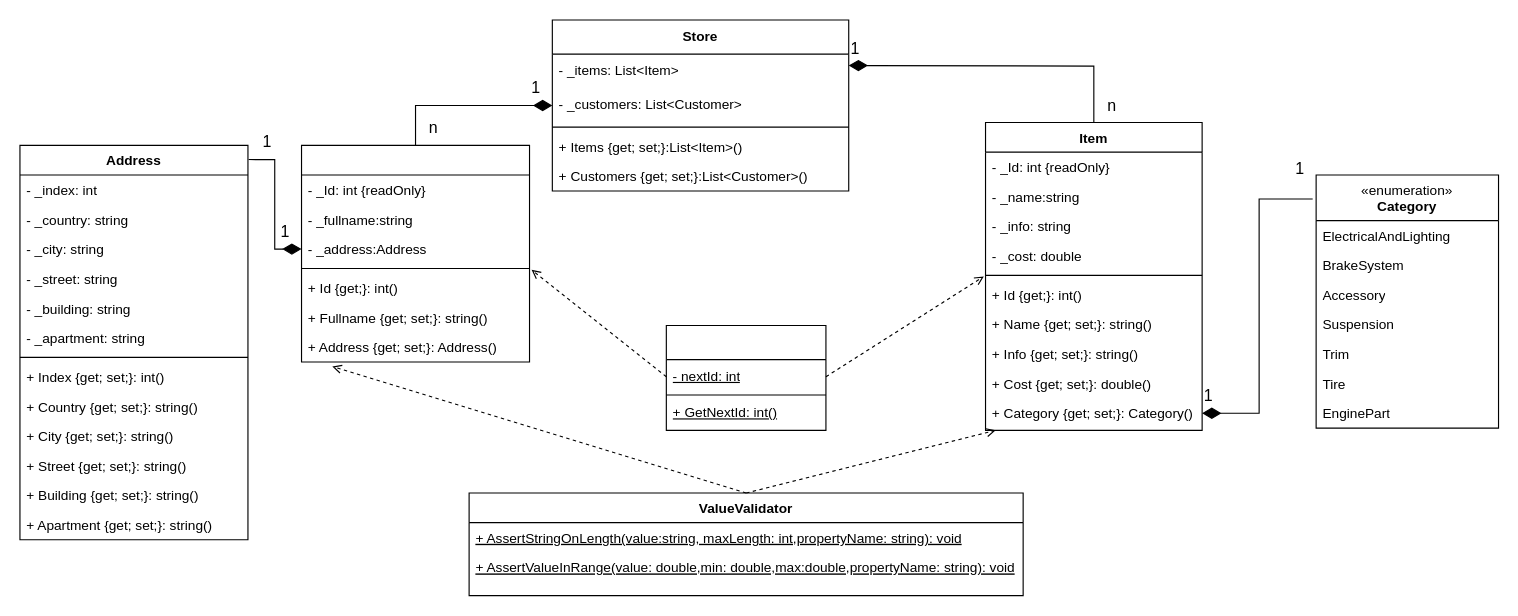
The diagram is 1518 pixels wide and 616 high, and some of its shapes have lost their labels. Each missing label, with the box of its shape:
Customer: (300, 144, 530, 362)
IdGenerator: (665, 324, 826, 430)
